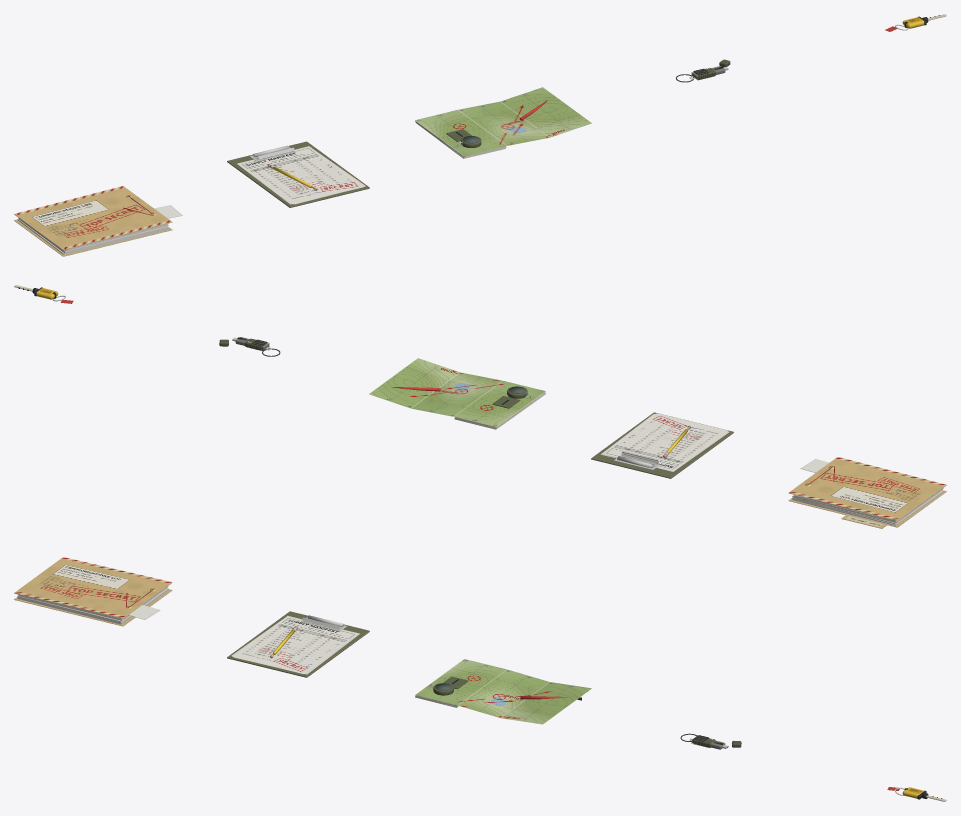
File: items1.glb
The picture shows the model from 3 angles, top to bottom: view 1: azimuth 30°, elevation 25°; view 2: azimuth 150°, elevation 25°; view 3: azimuth 330°, elevation 25°; orthographic projection.
Parts seen in each view (by area): view 1: i01_cover, i02_sheet, i03_pC, i03_pB, i03_pA, i02_board; view 2: i01_cover, i02_sheet, i03_pC, i03_pB, i03_pA, i02_board; view 3: i01_cover, i02_sheet, i03_pB, i03_pC, i03_pA, i02_board.
Part boxes in pixels (<box>): i01_cover: <box>15,186,171,249</box>; i02_sheet: <box>238,146,364,204</box>; i03_pC: <box>500,87,591,137</box>; i03_pB: <box>458,101,548,145</box>; i03_pA: <box>415,110,506,156</box>; i02_board: <box>227,141,369,207</box>; i01_cover: <box>789,457,945,520</box>; i02_sheet: <box>602,413,728,470</box>; i03_pC: <box>369,358,460,408</box>; i03_pB: <box>411,372,502,416</box>; i03_pA: <box>454,381,545,427</box>; i02_board: <box>591,412,733,478</box>; i01_cover: <box>15,557,171,617</box>; i02_sheet: <box>232,616,358,673</box>; i03_pB: <box>458,669,548,717</box>; i03_pC: <box>501,682,591,724</box>; i03_pA: <box>415,659,506,705</box>; i02_board: <box>227,611,369,677</box>.
Size of the model in its own units: 2.65 by 0.0276 by 0.32.
36 materials, 9 textured.
